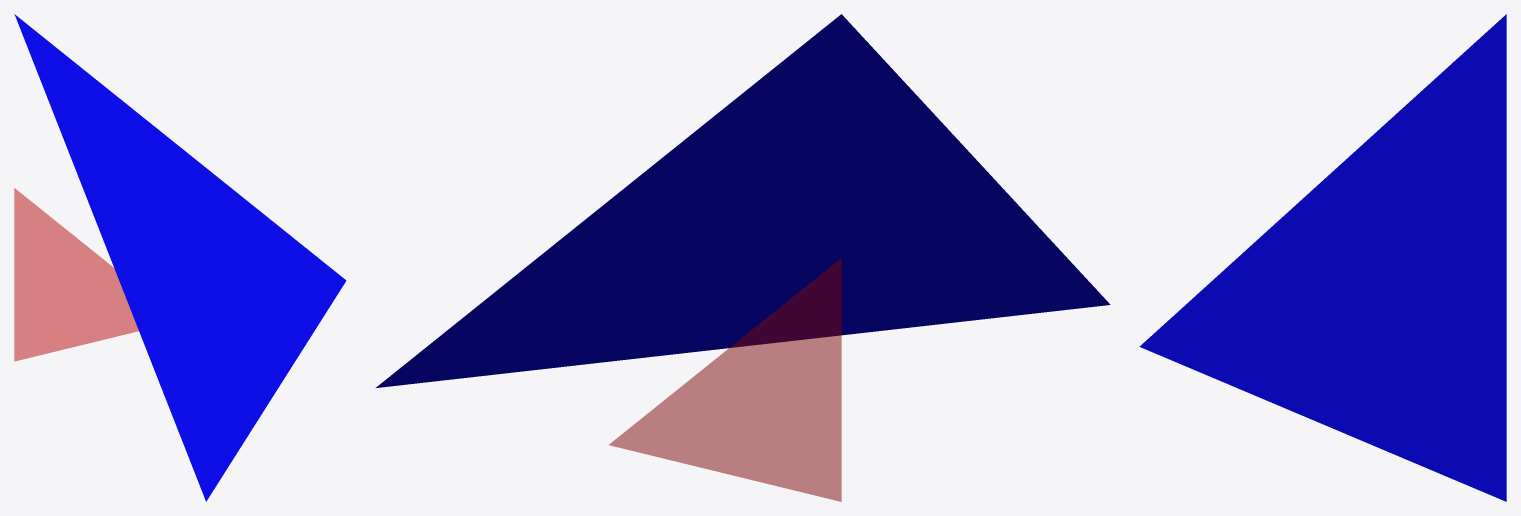
3 renders of one model, left to right at view 1: azimuth 30°, elevation 25°; view 2: azimuth 150°, elevation 25°; view 3: azimuth 270°, elevation 25°, orthographic. The views are drawn at different scales.
Parts seen in each view (by area): view 1: root; view 2: root; view 3: root.
Boxes of the visible parts, x1,y1,x2,y2 form: root: [14, 14, 346, 501]; root: [376, 14, 1110, 501]; root: [1139, 14, 1506, 501].
Size of the model in its own units: 2 by 2 by 2.
